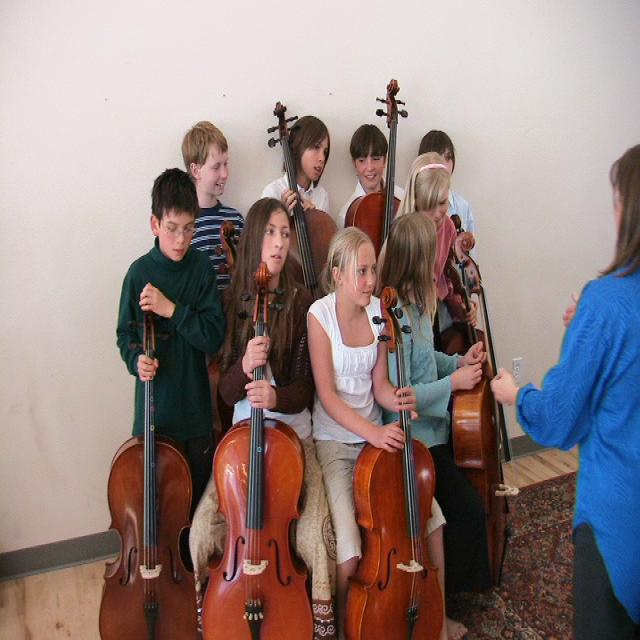cello: (196, 258, 314, 640), (335, 284, 449, 640), (97, 278, 201, 640), (442, 232, 511, 581), (262, 100, 342, 257), (344, 78, 411, 236)
